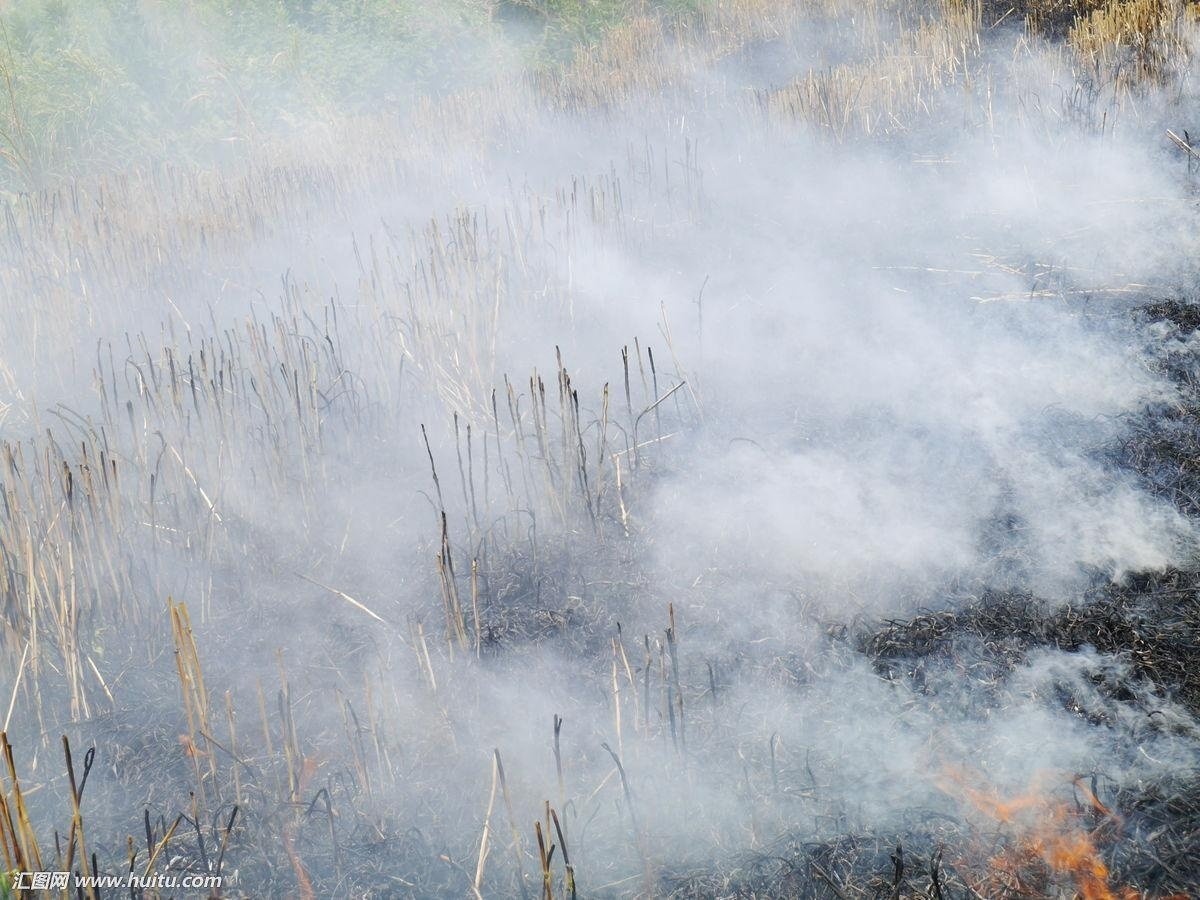fire: (953, 770, 1136, 895)
